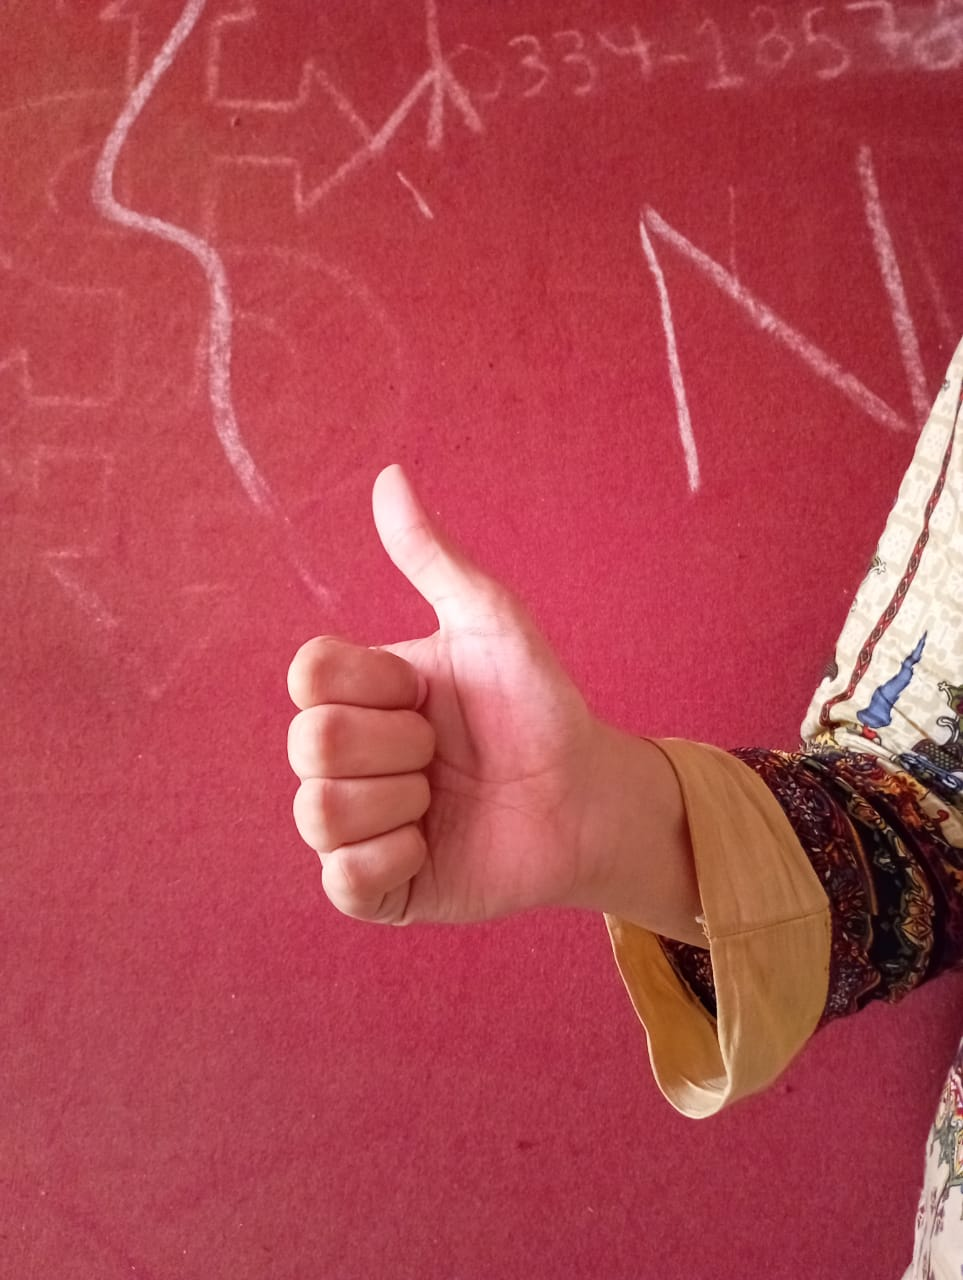I Like It: (270, 447, 601, 953)
